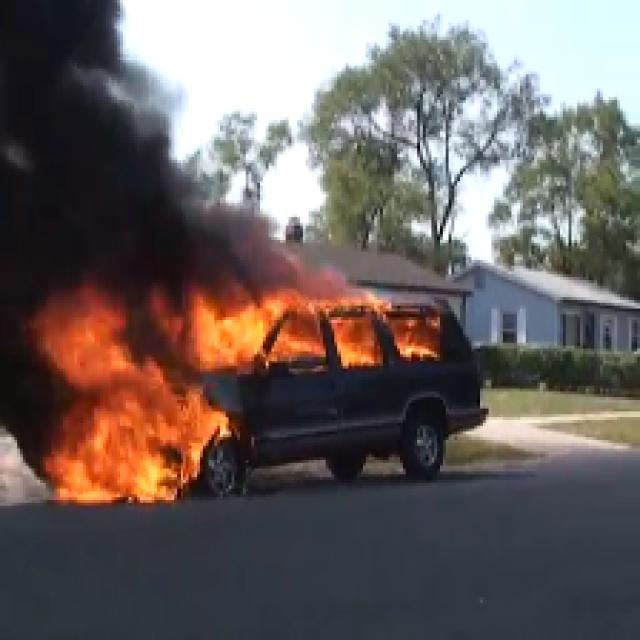fire: (52, 306, 427, 486)
smoke: (4, 0, 136, 295), (143, 201, 274, 292)
